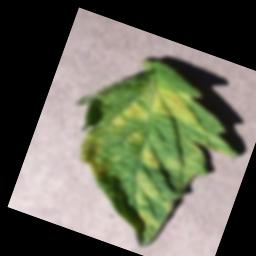Leaf_Mold: (36, 37, 256, 256)
